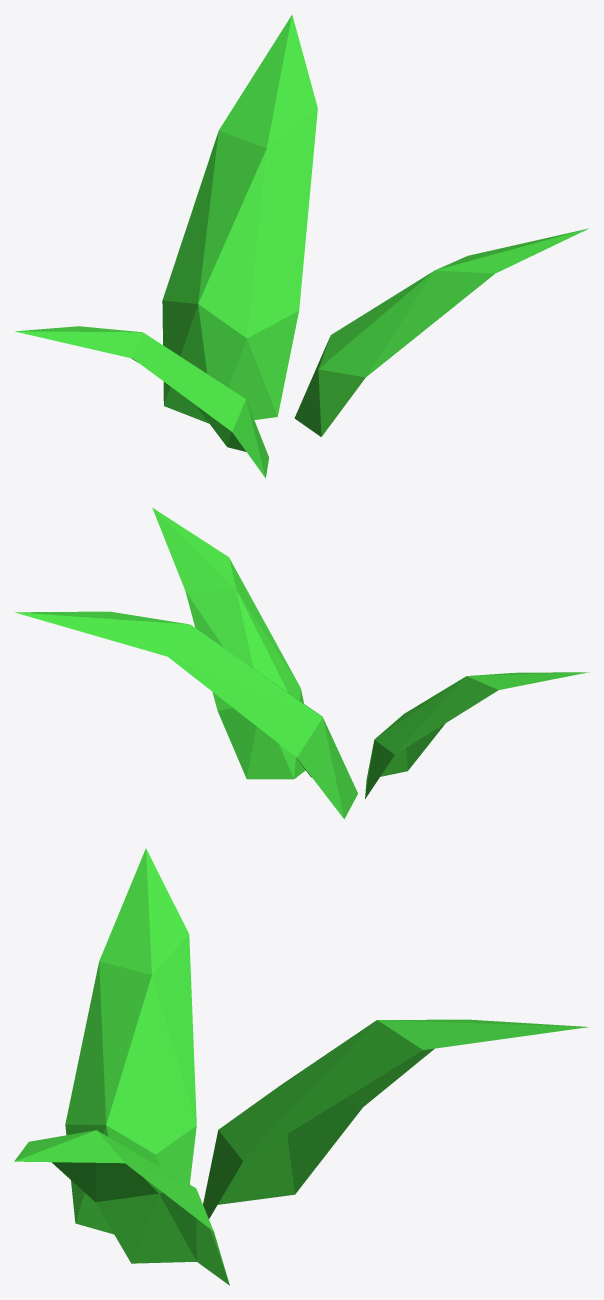
The model's file is Grass2.fbx.
3 renders of one model, top to bottom at view 1: azimuth 30°, elevation 25°; view 2: azimuth 150°, elevation 25°; view 3: azimuth 270°, elevation 25°, orthographic. The views are drawn at different scales.
Parts seen in each view (by area): view 1: Grass2; view 2: Grass2; view 3: Grass2.
Part boxes in pixels (bbox=[...]): Grass2: bbox=[15, 14, 588, 478]; Grass2: bbox=[15, 508, 589, 819]; Grass2: bbox=[14, 848, 588, 1285].
Bounding box in the file's own units: 77.14 × 37.02 × 56.92.
